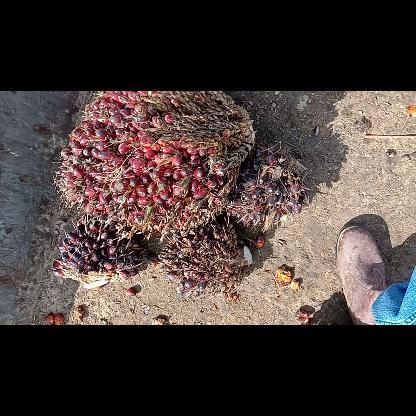TBS abnormal: (162, 225, 252, 295), (232, 148, 304, 230), (54, 222, 146, 286)
TBS masak: (53, 91, 253, 233)
